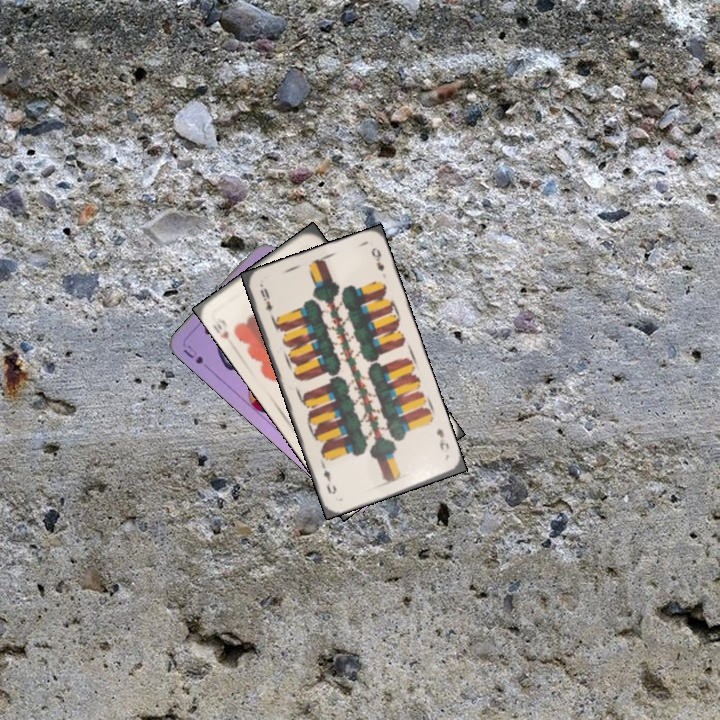E9: (256, 284, 276, 315), (432, 424, 452, 453)
H10: (210, 314, 236, 349)
SU: (179, 341, 206, 367)
